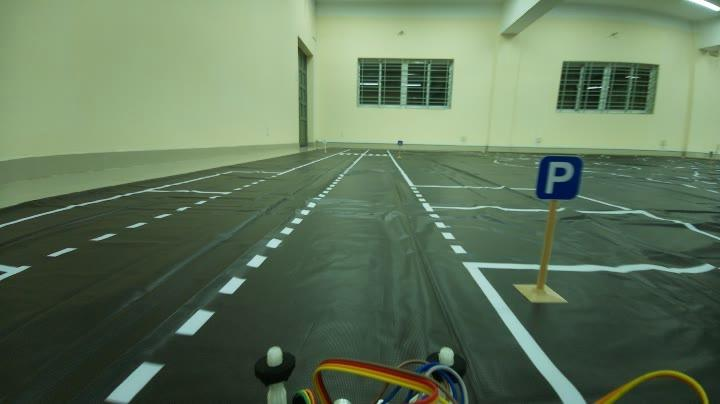parking: (530, 152, 586, 207)
